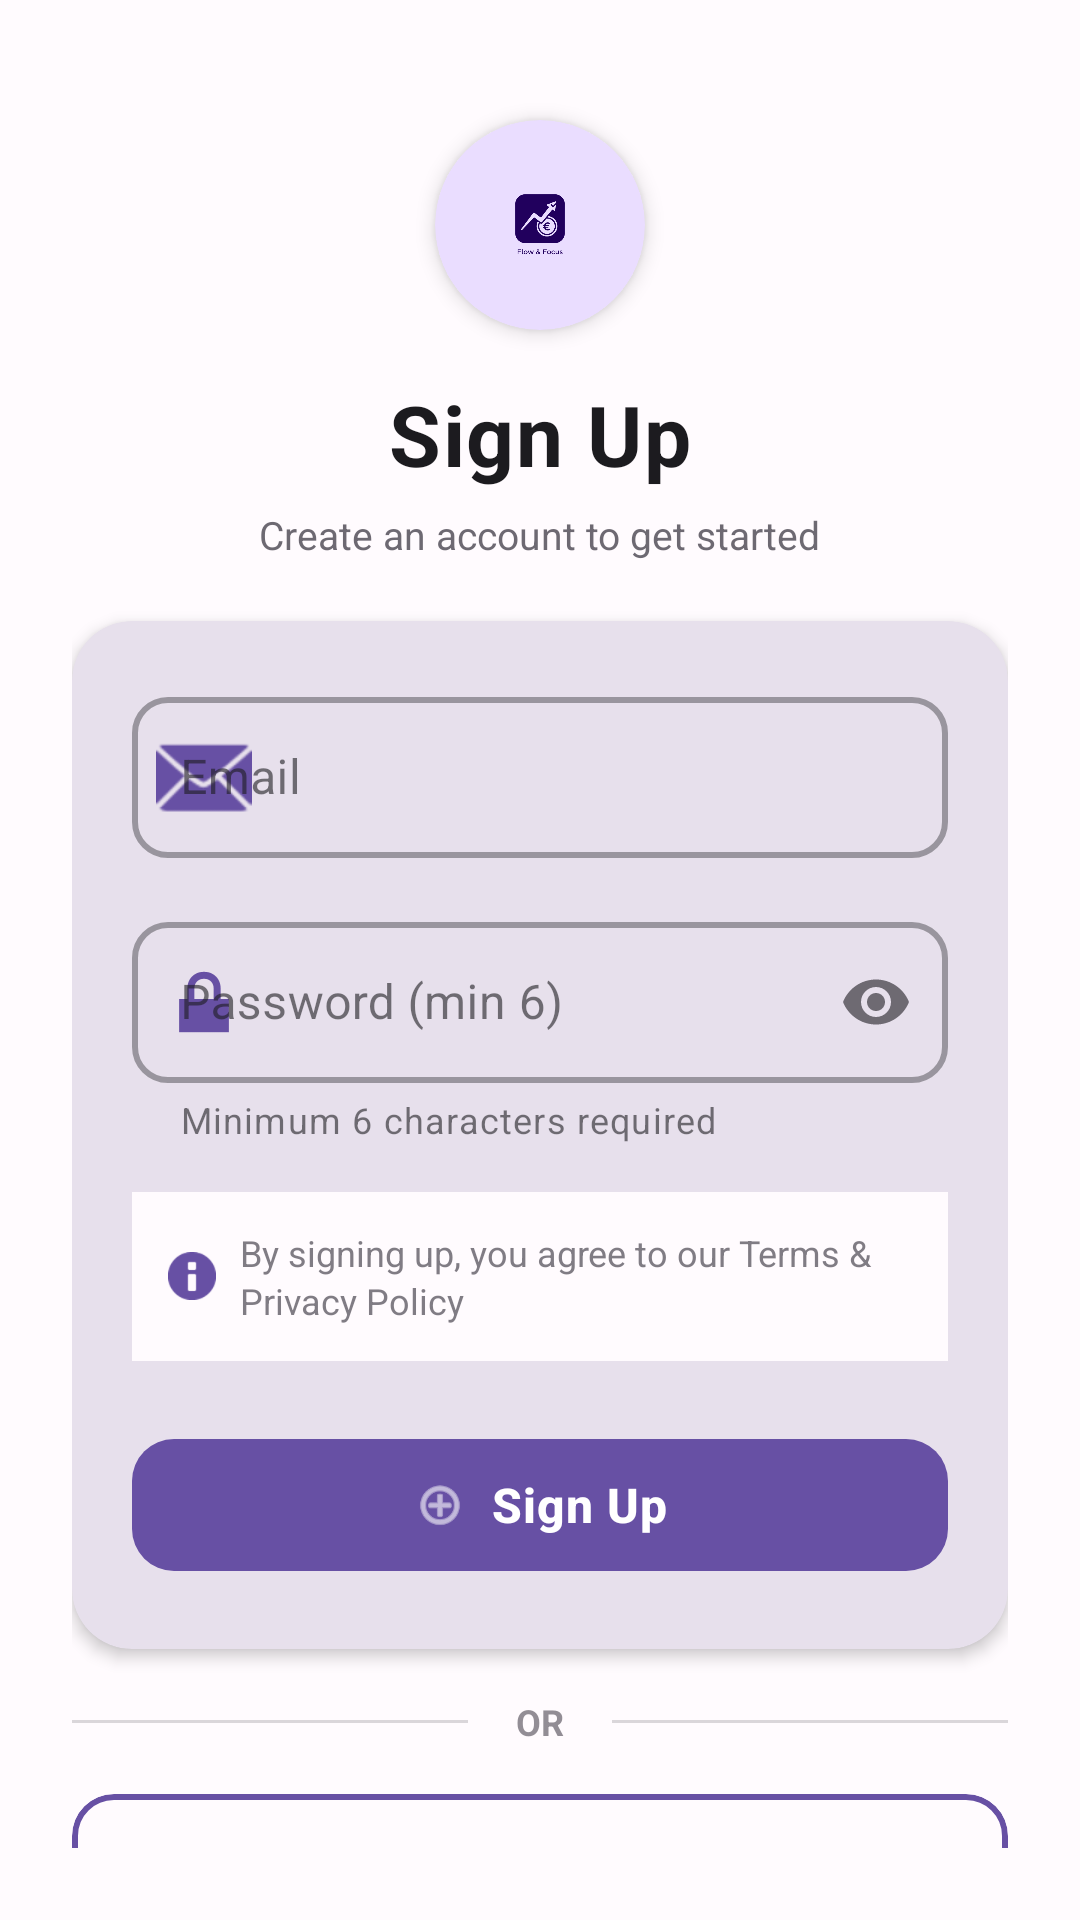

Icon click points for this 1080×1920 phone screenshot, format (x=x, y=y):
Info: (x=192, y=1276)
